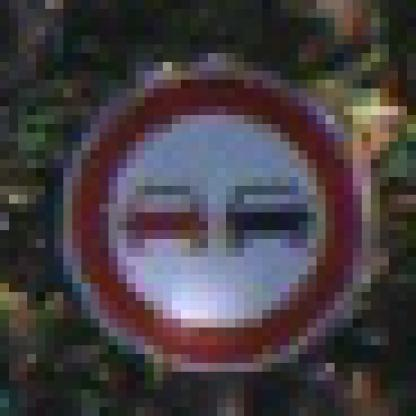No Overtaking: (46, 54, 372, 373)
